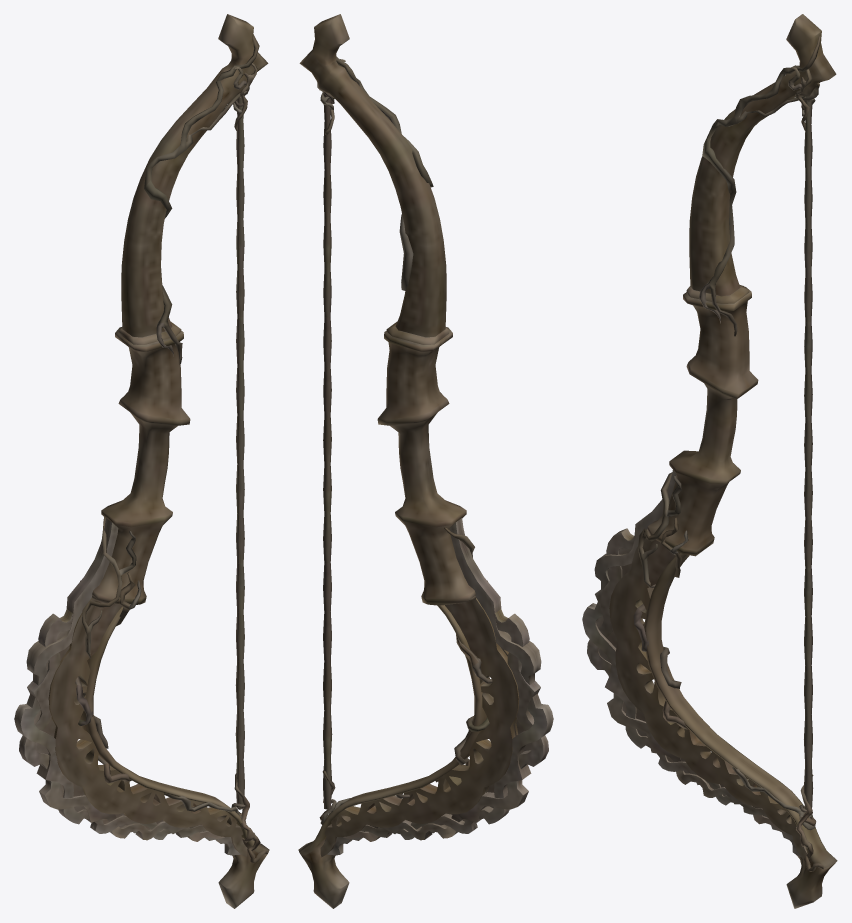
File: weapon-wp_a_1413.glb
The picture shows the model from 3 angles, left to right: view 1: azimuth 30°, elevation 25°; view 2: azimuth 150°, elevation 25°; view 3: azimuth 330°, elevation 25°; orthographic projection.
Visible parts, largest first — view 1: wp_a_1413_mesh; view 2: wp_a_1413_mesh; view 3: wp_a_1413_mesh.
Part boxes in pixels (x1,y1,x2,y2): wp_a_1413_mesh: (14, 14, 269, 908); wp_a_1413_mesh: (298, 14, 553, 908); wp_a_1413_mesh: (582, 14, 837, 908).
Size of the model in its own units: 0.4643 by 1.59 by 0.094.
Materials: 1 (1 with a texture image).
